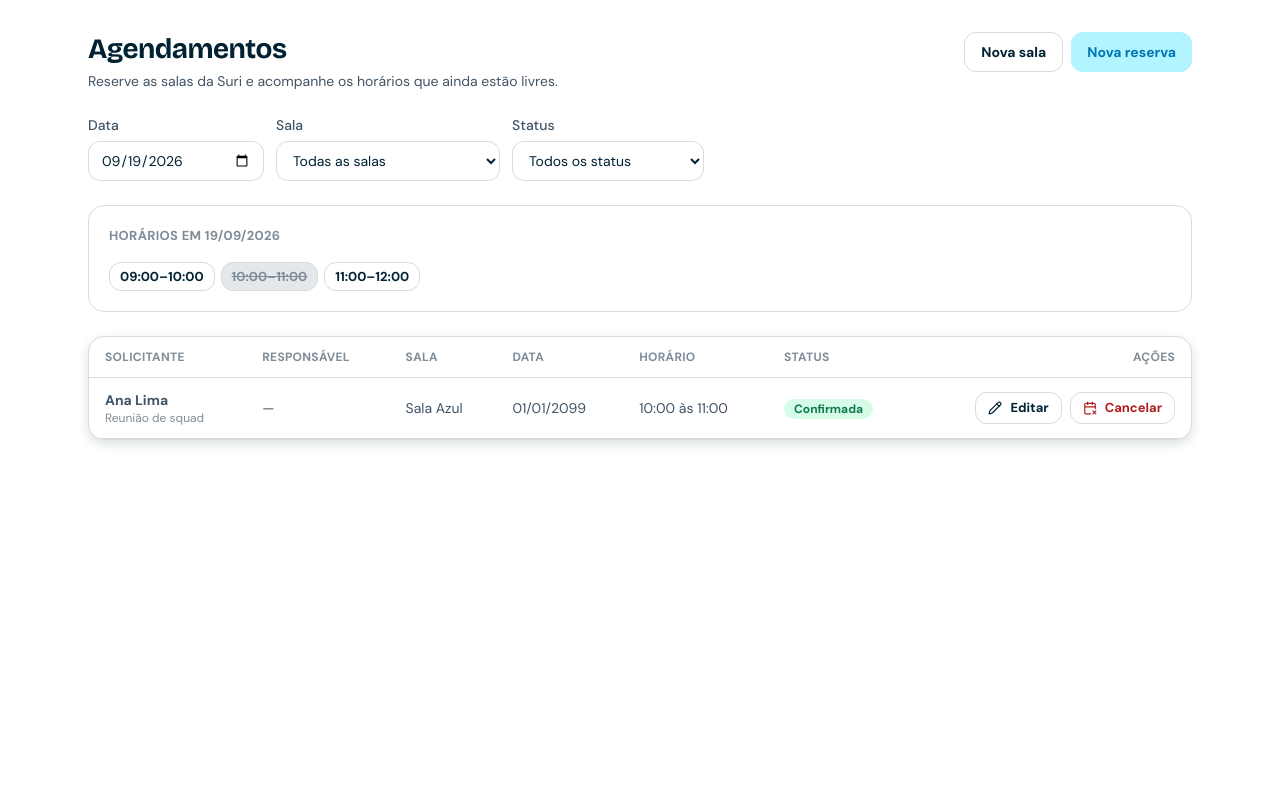
Test: AgendamentosPage › abre o diálogo de nova reserva
What coordinates should you click on to do the following:
click the button "Nova reserva"
I would click on:
 (1132, 52)
Its box is [1071, 32, 1192, 72].
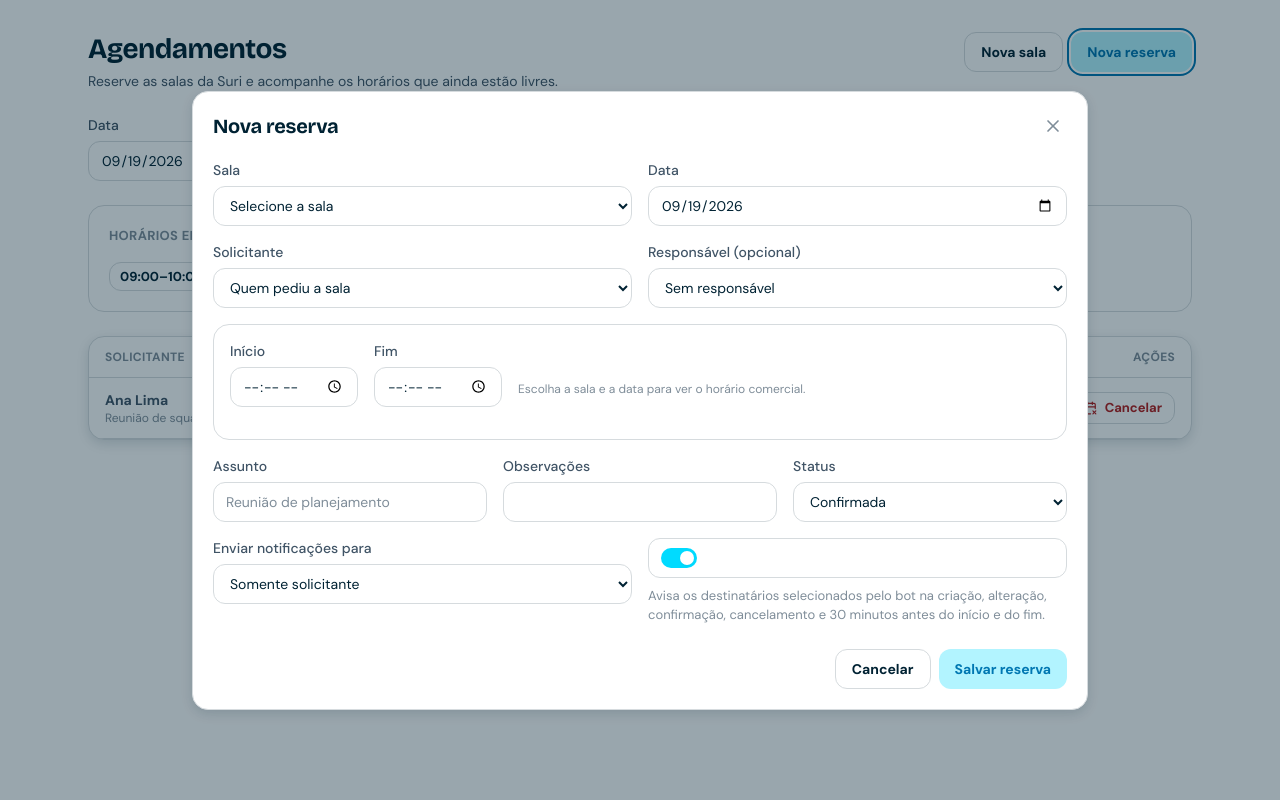
Result: the dialog "Nova reserva" is shown at [192, 90, 1088, 710]
